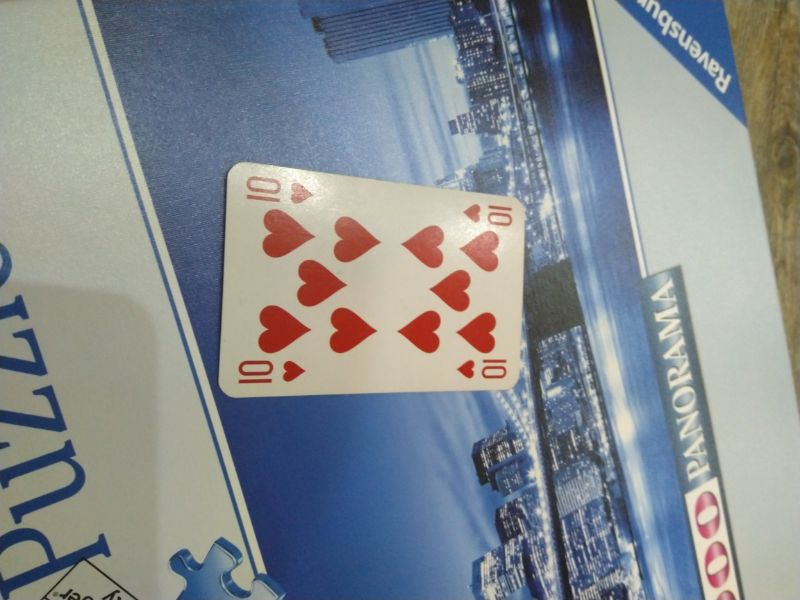Th: (241, 172, 316, 206), (234, 356, 310, 386), (454, 353, 509, 384), (461, 200, 514, 229)
